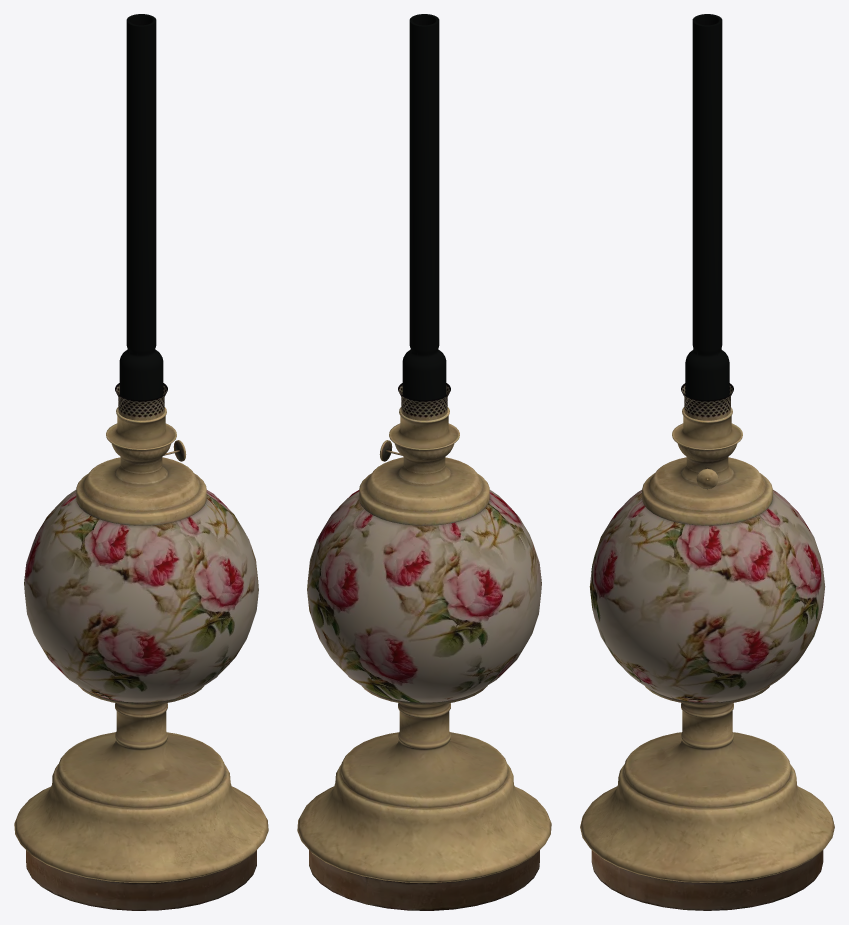
Rendered from vintage_oil_lamp.glb.
3 renders of one model, left to right at view 1: azimuth 30°, elevation 25°; view 2: azimuth 150°, elevation 25°; view 3: azimuth 270°, elevation 25°, orthographic.
Parts seen in each view (by area): view 1: vintage_oil_lamp, vintage_oil_lamp_glass; view 2: vintage_oil_lamp, vintage_oil_lamp_glass; view 3: vintage_oil_lamp, vintage_oil_lamp_glass.
Boxes of the visible parts, <box> form: vintage_oil_lamp: <box>14,407,268,910</box>; vintage_oil_lamp_glass: <box>115,14,167,420</box>; vintage_oil_lamp: <box>297,407,551,910</box>; vintage_oil_lamp_glass: <box>398,14,450,420</box>; vintage_oil_lamp: <box>580,407,834,910</box>; vintage_oil_lamp_glass: <box>681,14,733,420</box>.
Bounding box in the file's own units: 0.22 × 0.8016 × 0.22.
3 materials, 3 textured.
